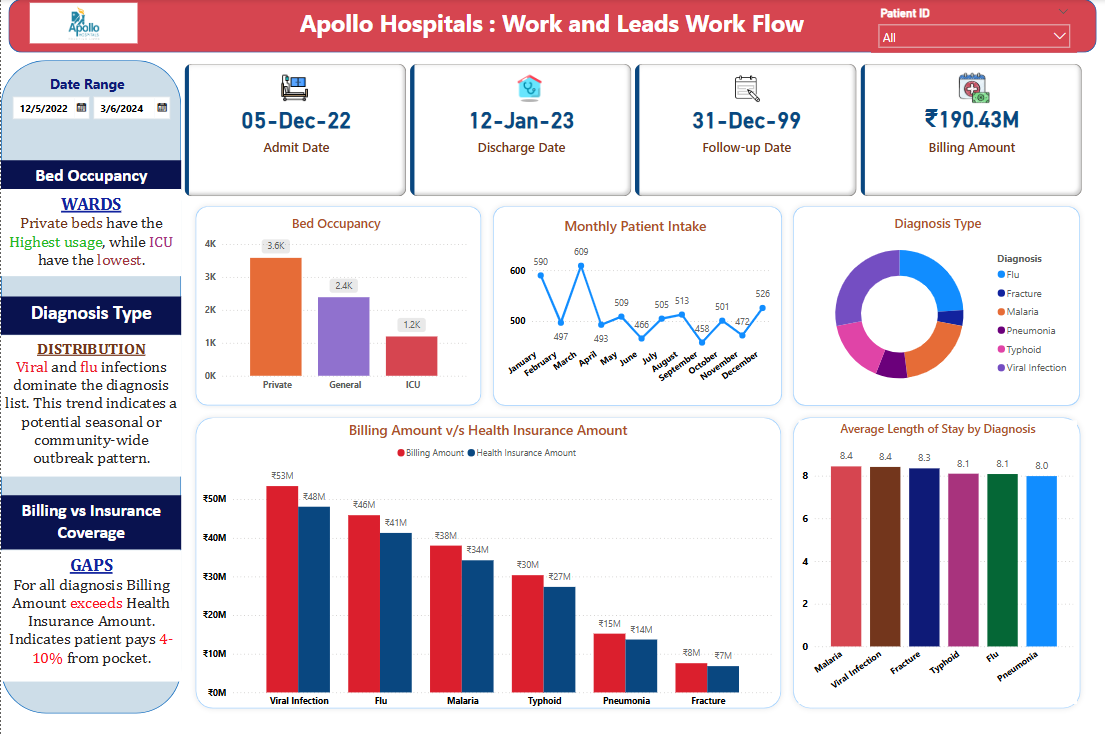

This screenshot's page, from the dashboard's own definition file:
{"tool":"powerbi","page":{"name":"Dashboard","canvas":[1500,1000],"ordinal":0},"visuals":[{"type":"shape","box":[10,0,1478.6,72.9],"z":0},{"type":"image","box":[38.3,5,146.7,55],"z":1000},{"type":"textbox","box":[400,5,718.3,60],"z":2000},{"type":"slicer","fields":{"Values":["Sheet1.Patient_ID"]},"box":[1181.7,5,280,68.3],"z":3000},{"type":"shape","box":[0,83.3,245,888.3],"z":4000},{"type":"cardVisual","title":"qwdads","fields":{"Data":["Min(Sheet1.Admit_Date)","Min(Sheet1.Discharge_Date)","Min(Sheet1.Followup Date)","Sum(Sheet1.Billing Amount)"]},"box":[244.3,82.9,1230,190],"z":5000},{"type":"image","box":[368.6,97.1,60,48.6],"z":6000},{"type":"image","box":[688.6,95.7,61.4,50],"z":7000},{"type":"image","box":[981.4,97.1,60,48.6],"z":8000},{"type":"image","box":[1295.7,94.3,52.9,51.4],"z":9000},{"type":"shape","box":[255.7,272.9,404.3,287.1],"z":10000},{"type":"shape","box":[660,272.9,408.6,287.1],"z":11000},{"type":"shape","box":[1068.6,272.9,405.7,287.1],"z":12000},{"type":"columnChart","title":"Bed Occupancy","fields":{"Category":["Sheet1.Bed_Occupancy"],"Y":["CountNonNull(Sheet1.Bed_Occupancy)"]},"box":[271.4,291.4,367.1,250],"z":13000},{"type":"donutChart","title":"Diagnosis Type","fields":{"Y":["CountNonNull(Sheet1.Diagnosis)"],"Series":["Sheet1.Diagnosis"]},"box":[1082.9,291.4,378.6,250],"z":14000},{"type":"shape","box":[256.7,560,811.7,411.7],"z":15000},{"type":"clusteredColumnChart","title":"Billing Amount v/s Health Insurance Amount","fields":{"Category":["Sheet1.Diagnosis"],"Y":["Sum(Sheet1.Billing Amount)","Sum(Sheet1.Health Insurance Amount)"]},"box":[268.3,571.7,786.7,400],"z":16000},{"type":"shape","box":[1068.3,560,406.7,411.7],"z":17000},{"type":"textbox","box":[0,218.3,245,40],"z":18000},{"type":"textbox","box":[0,258.3,245,118.3],"z":19000},{"type":"textbox","box":[0,405,245,51.7],"z":20000},{"type":"textbox","box":[0,456.7,245,191.7],"z":21000},{"type":"textbox","box":[0,675,245,73.3],"z":22000},{"type":"textbox","box":[0,748.3,245,178.3],"z":23000},{"type":"textbox","box":[61.7,96.7,123.3,50],"z":24000},{"type":"slicer","fields":{"Values":["Sheet1.Admit_Date"]},"box":[3.3,121.7,241.7,56.7],"z":25000},{"type":"lineChart","title":"Monthly Patient Intake","fields":{"Category":["Calendar.Month"],"Y":["CountNonNull(Sheet1.Patient_ID)"]},"box":[673.3,295,378.3,245],"z":26000},{"type":"columnChart","title":"Average Length of Stay by Diagnosis","fields":{"Category":["Sheet1.Diagnosis"],"Y":["Sheet1.Average Length of Stay (ALOS)"]},"box":[1083.6,572.4,378.7,385.5],"z":26001}]}

Visuals, with their boxes in screenshot pixels (x1, y1, x2, y2), scaled from the page's 1500x1000 canvas onto the 1105x734 screenshot:
shape: [x1=7, y1=0, x2=1097, y2=54]
image: [x1=28, y1=4, x2=136, y2=44]
textbox: [x1=295, y1=4, x2=824, y2=48]
slicer - Sheet1.Patient_ID: [x1=871, y1=4, x2=1077, y2=54]
shape: [x1=0, y1=61, x2=180, y2=713]
"qwdads" cardVisual: [x1=180, y1=61, x2=1086, y2=200]
image: [x1=272, y1=71, x2=316, y2=107]
image: [x1=507, y1=70, x2=552, y2=107]
image: [x1=723, y1=71, x2=767, y2=107]
image: [x1=954, y1=69, x2=993, y2=107]
shape: [x1=188, y1=200, x2=486, y2=411]
shape: [x1=486, y1=200, x2=787, y2=411]
shape: [x1=787, y1=200, x2=1086, y2=411]
"Bed Occupancy" columnChart: [x1=200, y1=214, x2=470, y2=397]
"Diagnosis Type" donutChart: [x1=798, y1=214, x2=1077, y2=397]
shape: [x1=189, y1=411, x2=787, y2=713]
"Billing Amount v/s Health Insurance Amount" clusteredColumnChart: [x1=198, y1=420, x2=777, y2=713]
shape: [x1=787, y1=411, x2=1087, y2=713]
textbox: [x1=0, y1=160, x2=180, y2=190]
textbox: [x1=0, y1=190, x2=180, y2=276]
textbox: [x1=0, y1=297, x2=180, y2=335]
textbox: [x1=0, y1=335, x2=180, y2=476]
textbox: [x1=0, y1=495, x2=180, y2=549]
textbox: [x1=0, y1=549, x2=180, y2=680]
textbox: [x1=45, y1=71, x2=136, y2=108]
slicer - Sheet1.Admit_Date: [x1=2, y1=89, x2=180, y2=131]
"Monthly Patient Intake" lineChart: [x1=496, y1=217, x2=775, y2=396]
"Average Length of Stay by Diagnosis" columnChart: [x1=798, y1=420, x2=1077, y2=703]
